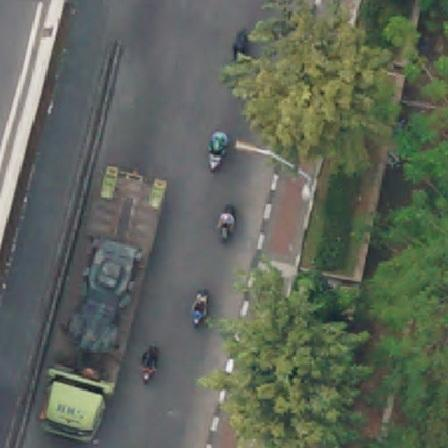Motorcycle: (186, 293, 215, 329), (226, 27, 252, 60), (204, 131, 223, 167), (140, 347, 159, 383), (217, 209, 236, 239)
